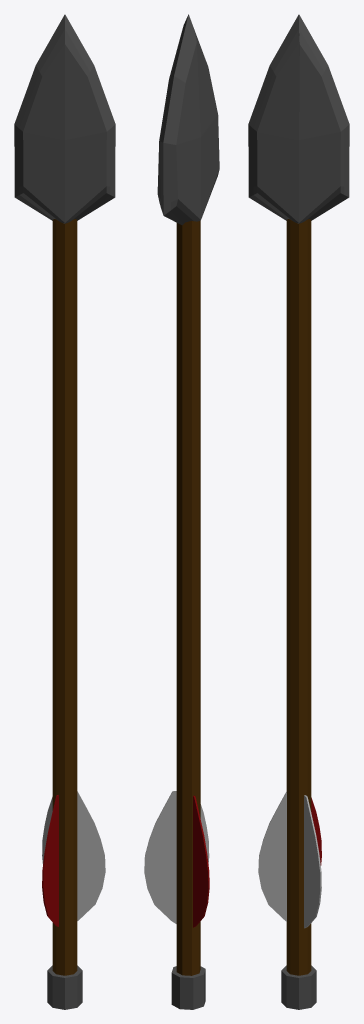
The model's file is Arrow.fbx.
3 renders of one model, left to right at view 1: azimuth 90°, elevation 25°; view 2: azimuth 150°, elevation 25°; view 3: azimuth 270°, elevation 25°, orthographic.
Visible parts, largest first — view 1: Cylinder, Plane, Plane.003, Plane.002, Cylinder.001, Plane.001; view 2: Cylinder, Plane, Plane.001, Plane.002, Cylinder.001, Plane.003; view 3: Cylinder, Plane, Plane.003, Plane.001, Cylinder.001, Plane.002.
Boxes of the visible parts, x1=… form: Cylinder: x1=52, y1=219, x2=77, y2=975; Plane: x1=14, y1=14, x2=115, y2=223; Plane.003: x1=77, y1=791, x2=105, y2=920; Plane.002: x1=42, y1=795, x2=58, y2=926; Cylinder.001: x1=47, y1=965, x2=82, y2=1009; Plane.001: x1=42, y1=797, x2=52, y2=863; Cylinder: x1=176, y1=220, x2=200, y2=975; Plane: x1=157, y1=14, x2=219, y2=225; Plane.001: x1=144, y1=791, x2=176, y2=923; Plane.002: x1=193, y1=795, x2=209, y2=927; Cylinder.001: x1=171, y1=966, x2=205, y2=1009; Plane.003: x1=200, y1=804, x2=209, y2=863; Cylinder: x1=286, y1=219, x2=311, y2=975; Plane: x1=248, y1=14, x2=349, y2=223; Plane.003: x1=258, y1=791, x2=286, y2=921; Plane.001: x1=304, y1=795, x2=321, y2=928; Cylinder.001: x1=281, y1=965, x2=316, y2=1009; Plane.002: x1=311, y1=797, x2=321, y2=865.
Bounding box in the file's own units: 18.48 × 267 × 24.77.
